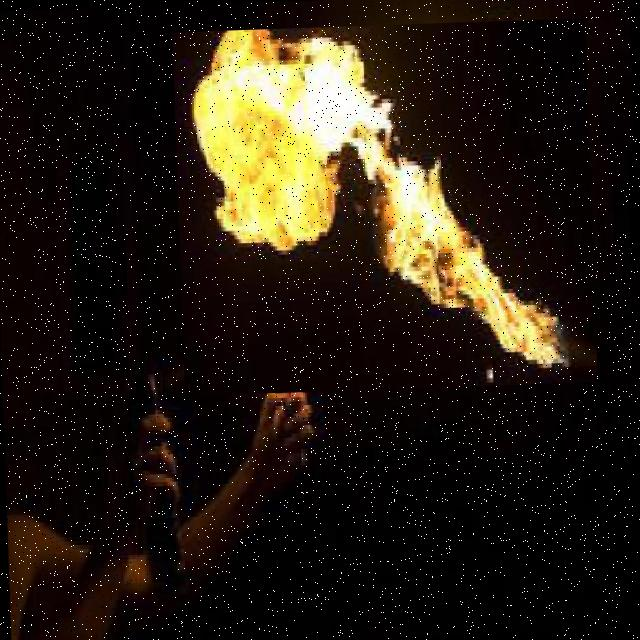fire: (172, 18, 597, 396)
